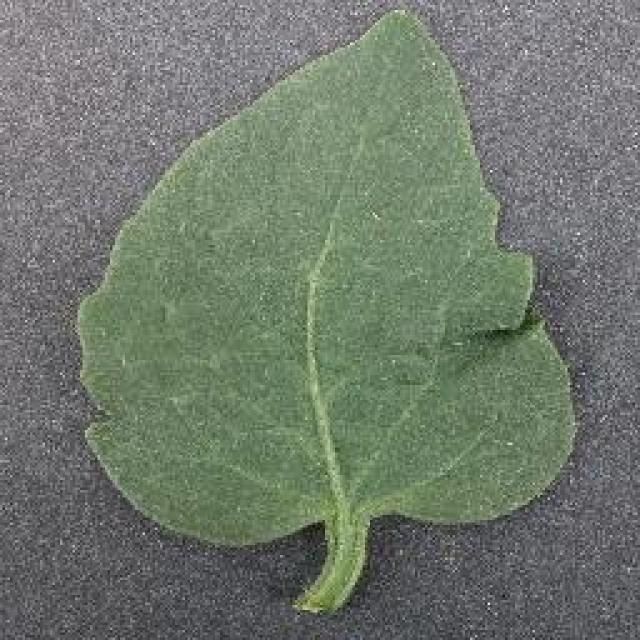Tomato_Healthy: (59, 3, 602, 539)
